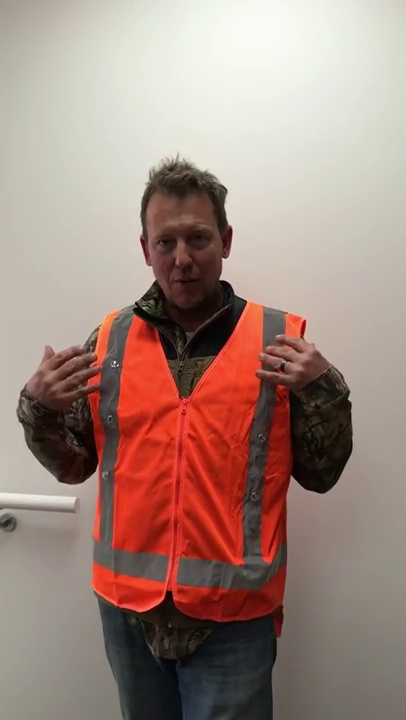NoHardhat: (85, 158, 309, 614)
